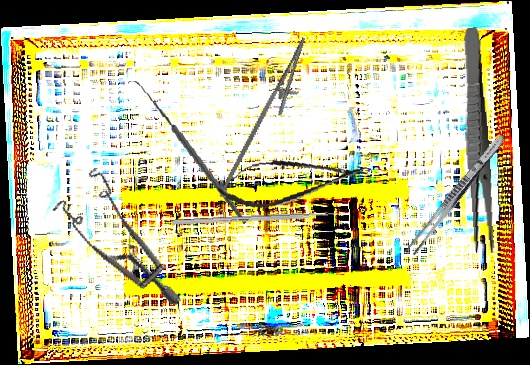Dressing Forceps: (405, 130, 509, 258), (457, 26, 497, 255)
Hook Surgical: (127, 69, 247, 236)
Micro Scissor: (214, 146, 371, 215)
Needle Holder: (219, 29, 319, 206)
Pusher: (171, 210, 351, 226)
Speculum: (35, 158, 215, 307)
